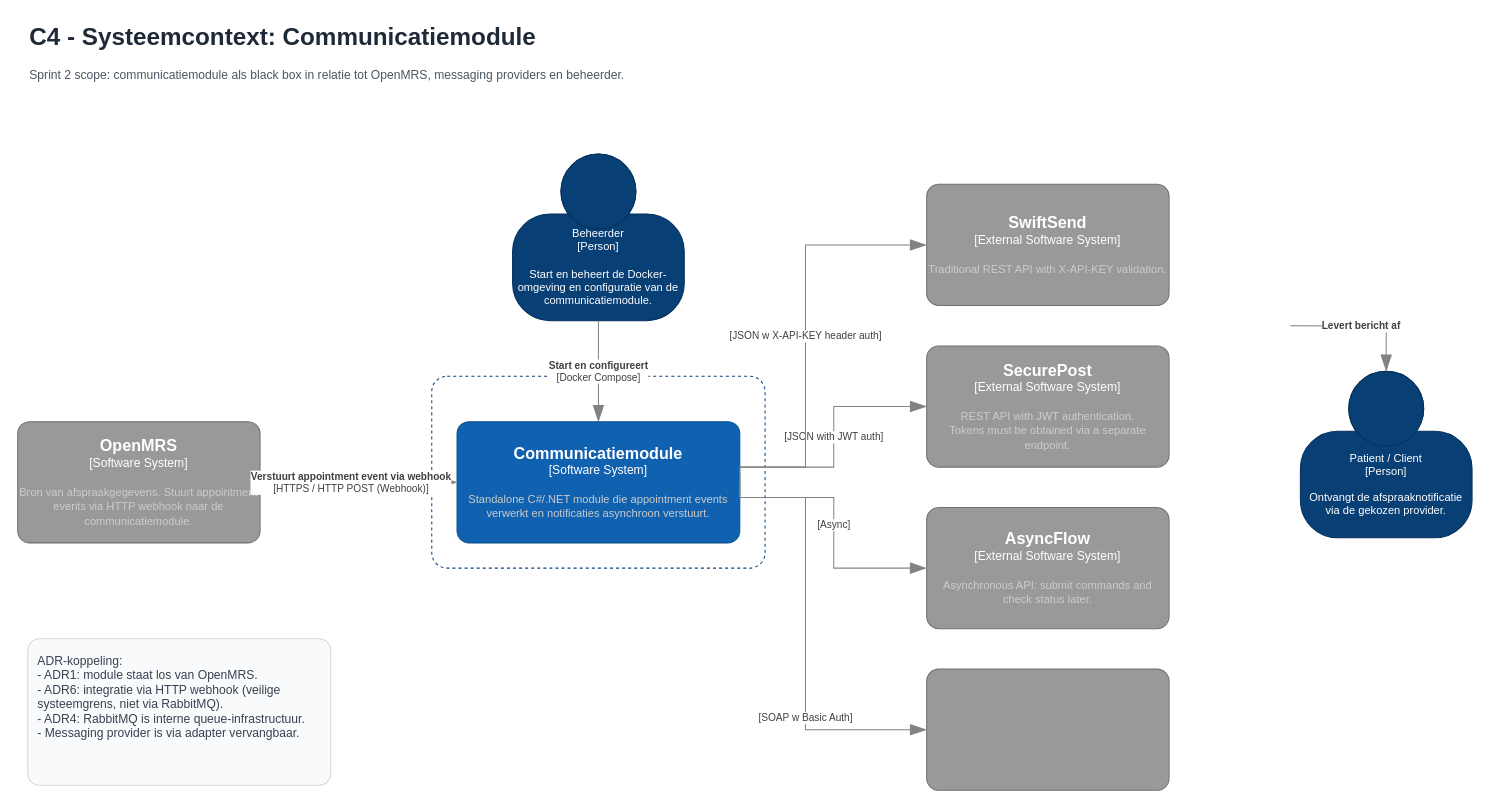
The diagram is 1490 pixels wide and 808 high, and some of its shapes have lost their labels. The box of each missing label's shape, as (x1, y1, x2, y2) in pixels:
LegacyLink [External Software System] Legacy SOAP API with BASIC authentication.: (926, 668, 1169, 790)
System of interest: (431, 375, 765, 568)
